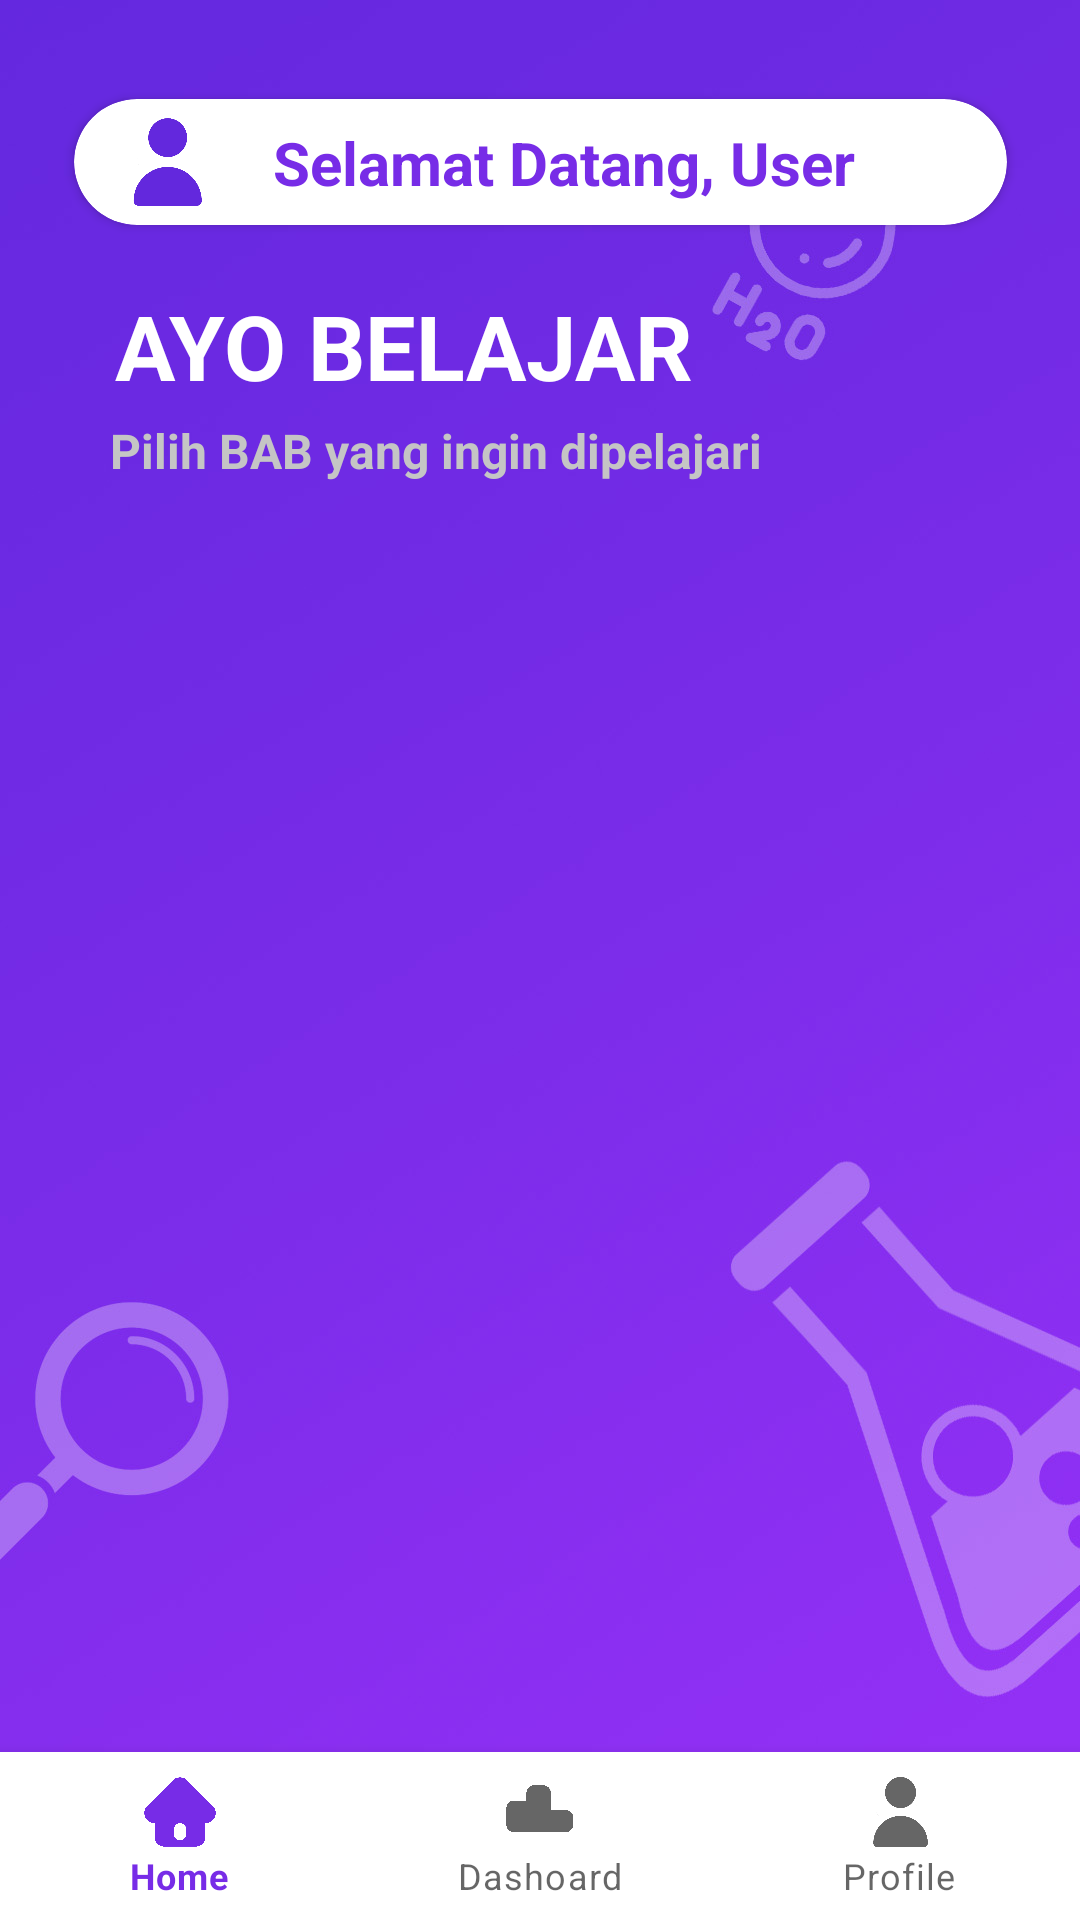

Screen size 1080px×1920px. Icon name, then its center in pixels as (x=x, y=y):
person: (x=168, y=162)
